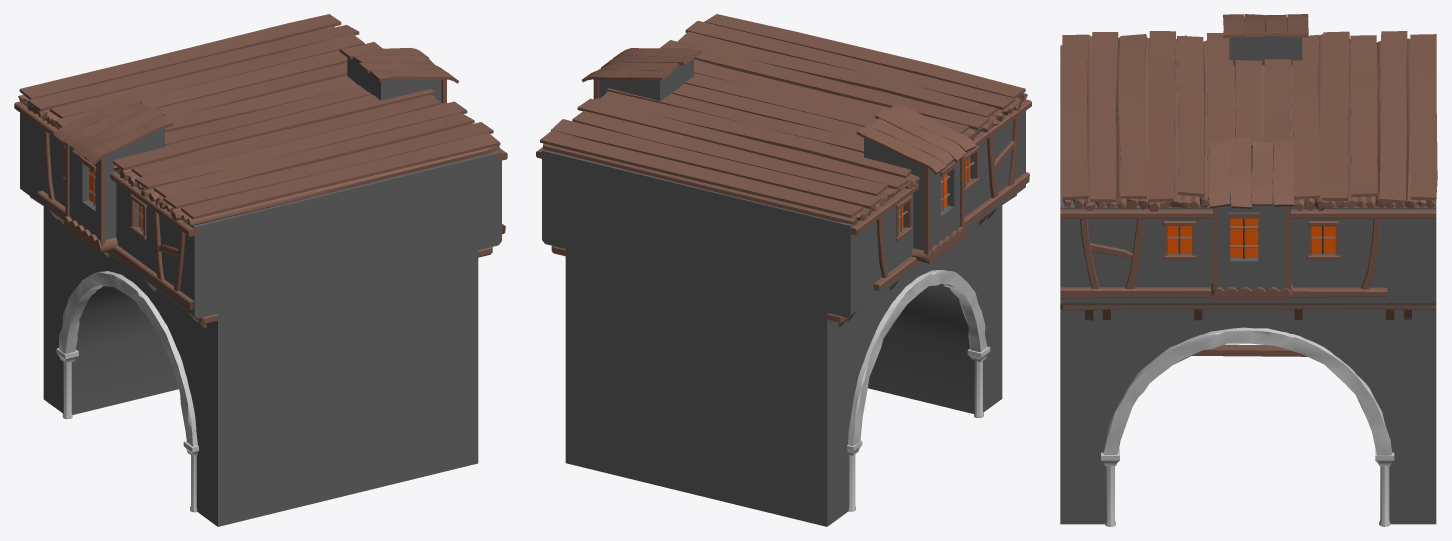
Rendered from civilian_house_24_a.FBX.
3 views of the same model, side by side, from view 1: azimuth 30°, elevation 25°; view 2: azimuth 150°, elevation 25°; view 3: azimuth 270°, elevation 25° (orthographic). The views are drawn at different scales.
Parts seen in each view (by area): view 1: civilian_house_24_a_LOD0; view 2: civilian_house_24_a_LOD0; view 3: civilian_house_24_a_LOD0.
Part boxes in pixels (<box>): civilian_house_24_a_LOD0: <box>14,14,507,526</box>; civilian_house_24_a_LOD0: <box>536,14,1031,526</box>; civilian_house_24_a_LOD0: <box>1060,14,1437,526</box>.
Size of what is drawn, in the model's own units: 694 by 631 by 582.
